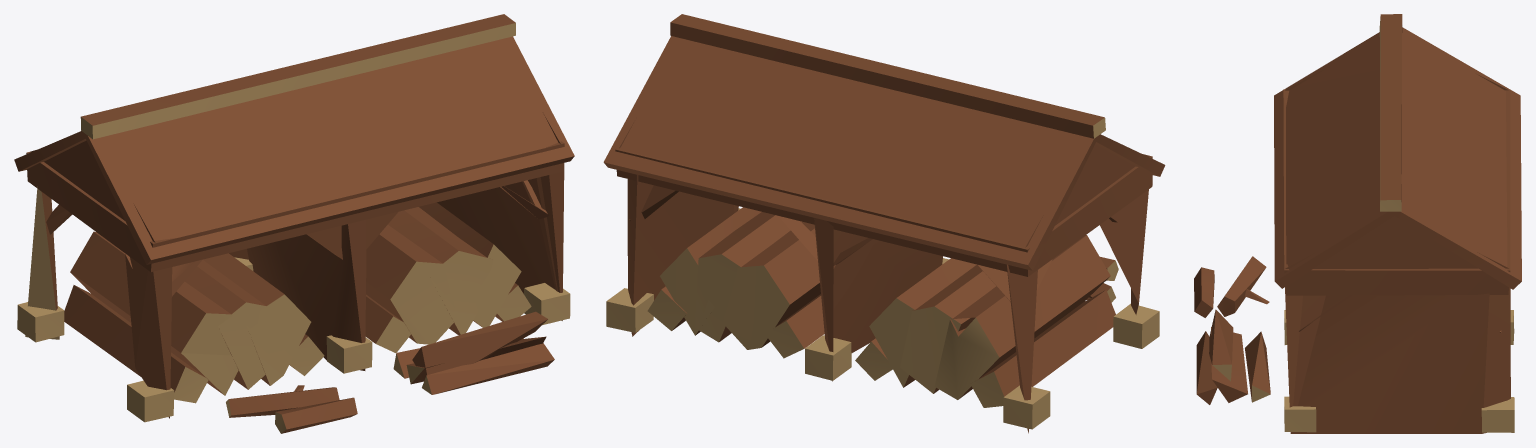
Rendered from supply22.glb.
3 views of the same model, side by side, from view 1: azimuth 30°, elevation 25°; view 2: azimuth 150°, elevation 25°; view 3: azimuth 270°, elevation 25° (orthographic). The views are drawn at different scales.
Parts seen in each view (by area): view 1: supply22; view 2: supply22; view 3: supply22.
Part boxes in pixels (x1,y1,x2,y2): supply22: (14,14,574,433); supply22: (603,14,1165,433); supply22: (1194,14,1521,433).
Bounding box in the file's own units: 1.9 × 1.13 × 1.41.
